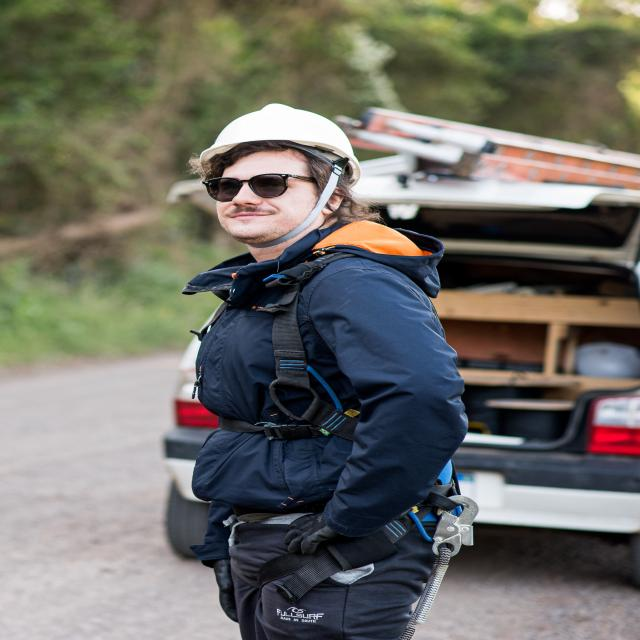capacete: (190, 99, 368, 192)
corda de vida: (188, 242, 485, 640)
luva: (280, 507, 353, 562)
